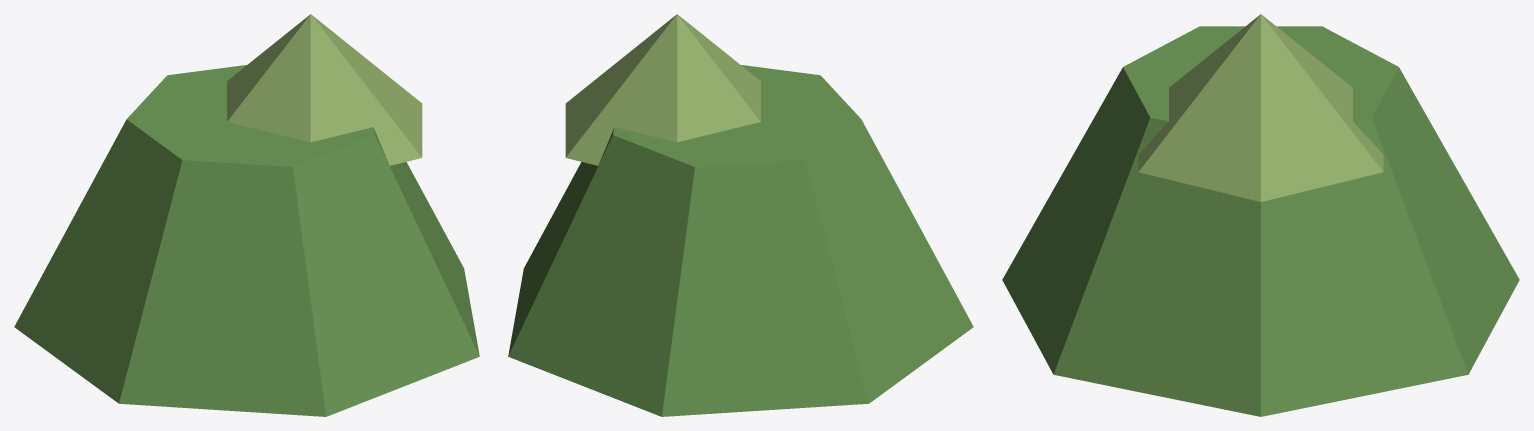
The model's file is bush_01.glb.
3 renders of one model, left to right at view 1: azimuth 30°, elevation 25°; view 2: azimuth 150°, elevation 25°; view 3: azimuth 270°, elevation 25°, orthographic. The views are drawn at different scales.
Size of the model in its own units: 1.43 by 1 by 1.46.
